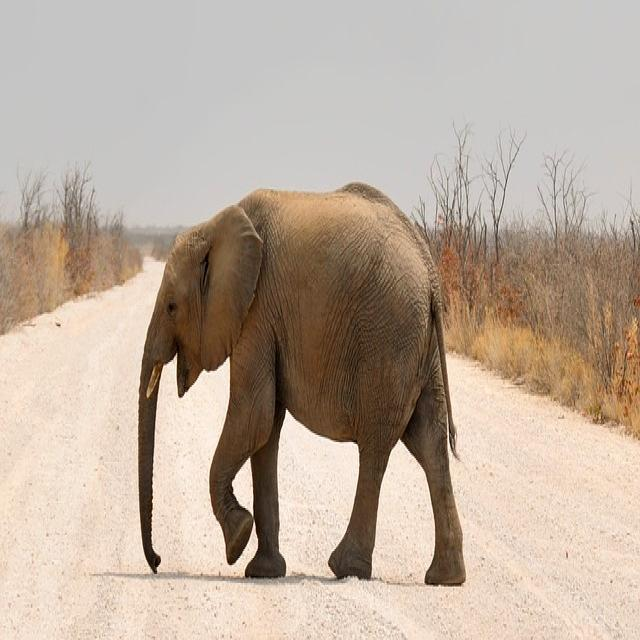elephant: (139, 183, 462, 583)
